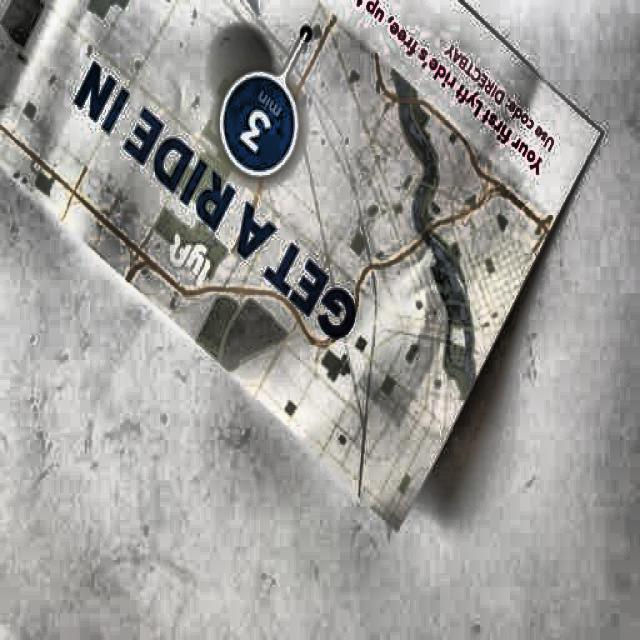paper: (0, 0, 602, 520)
